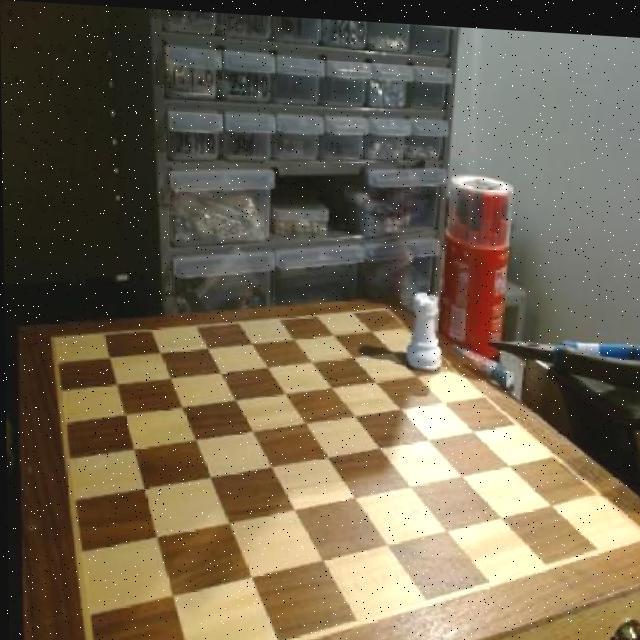white-queen: (402, 286, 450, 370)
